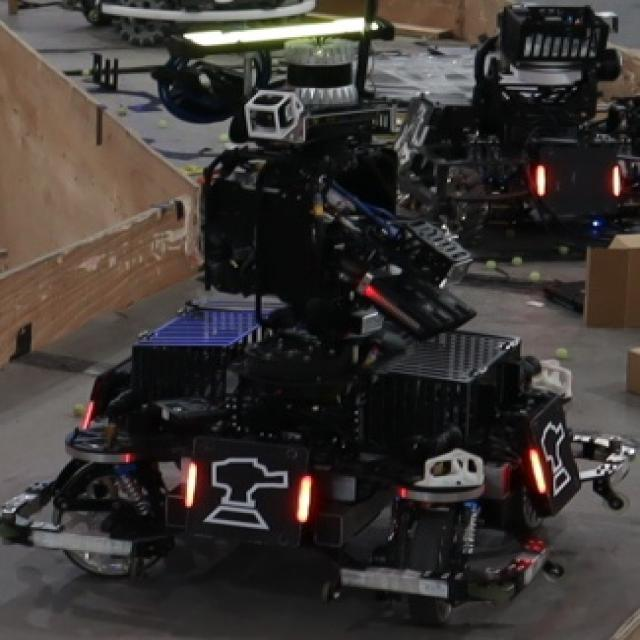Rs: (183, 443, 313, 541), (526, 406, 579, 504)
